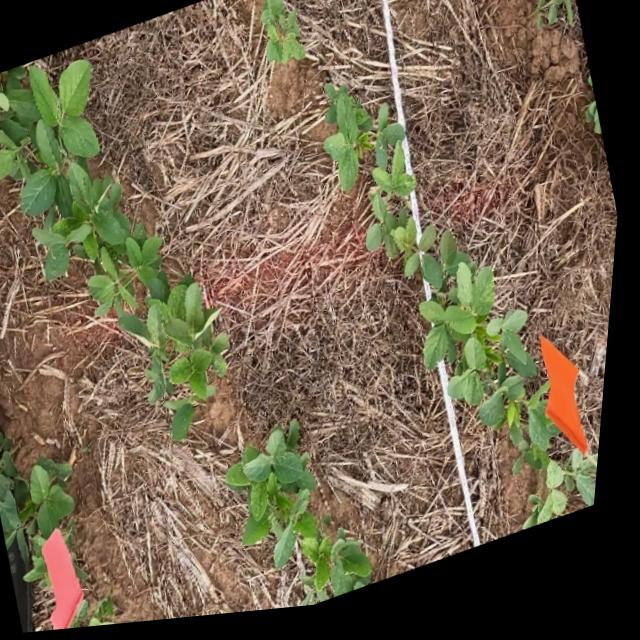soy_plant: (326, 92, 607, 539), (0, 62, 235, 442), (234, 427, 381, 613), (0, 430, 82, 581), (262, 0, 305, 69), (542, 0, 577, 28), (592, 112, 604, 142), (100, 620, 126, 629)
